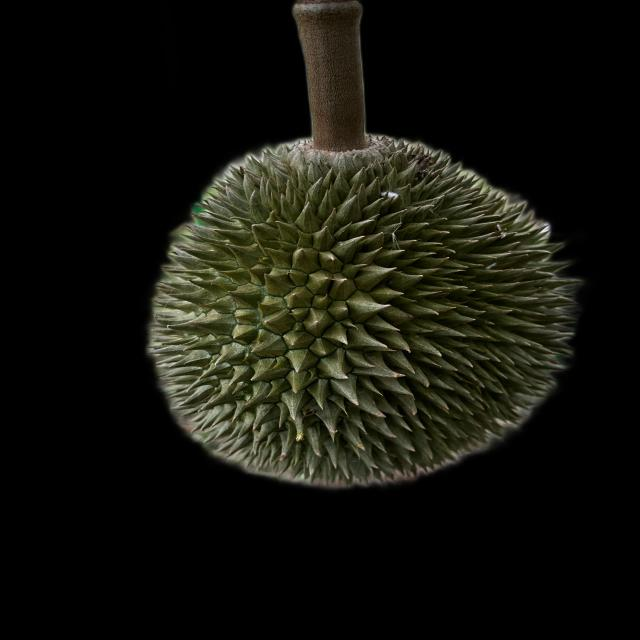immature: (144, 127, 582, 483)
